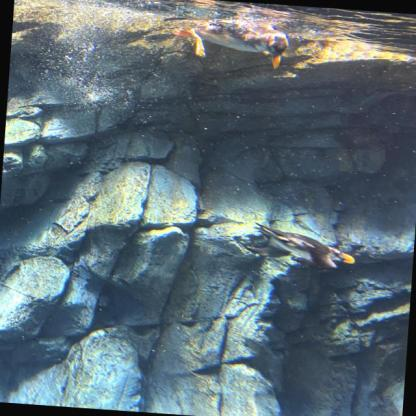puffin: (172, 14, 290, 70), (240, 220, 357, 273)
